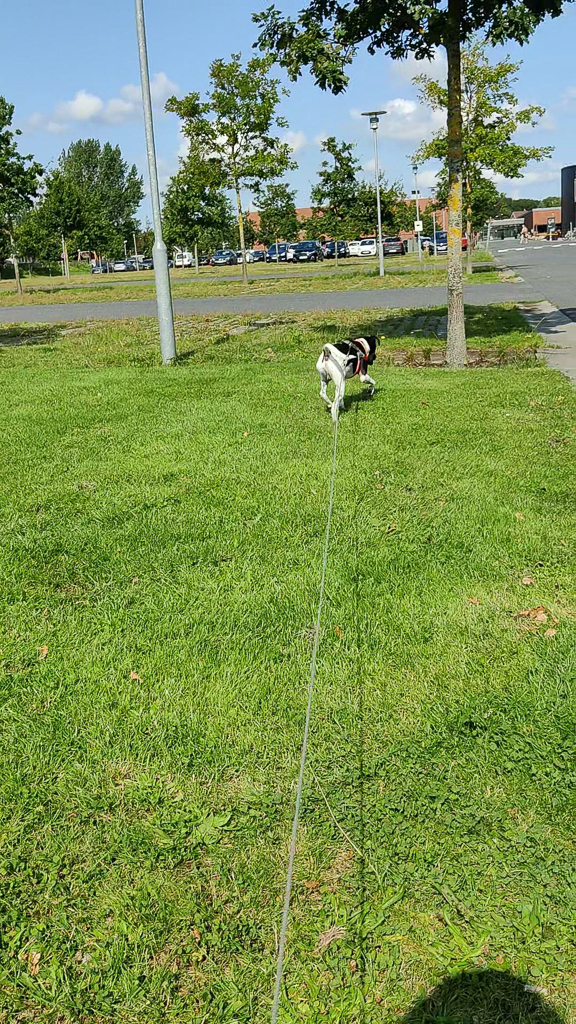Dog: (307, 330, 390, 431)
